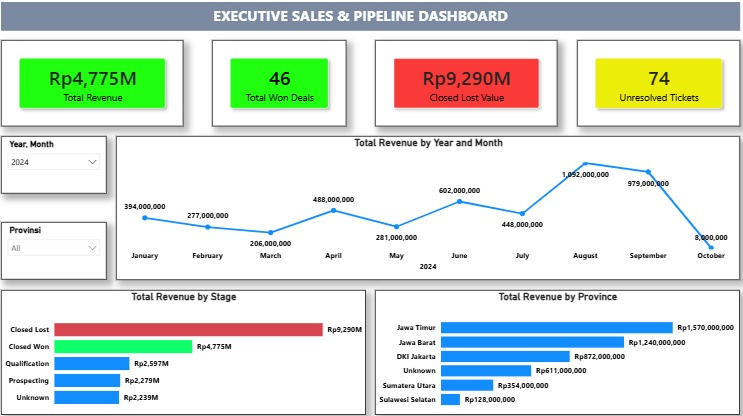

Layout of this report page (visuals, bound fields, positions):
{"tool":"powerbi","page":{"name":"Executive Summary Dashboard","canvas":[1280,720],"ordinal":0},"visuals":[{"type":"slicer","fields":{"Values":["dim_date.Date.Variation.Date Hierarchy.Year","dim_date.Date.Variation.Date Hierarchy.Month"]},"box":[16,240,176,96],"z":0},{"type":"slicer","fields":{"Values":["v_clean_customers.clean_province"]},"box":[16,384,176,96],"z":1000},{"type":"cardVisual","fields":{"Data":["Measure.Total Revenue"]},"box":[16,80,304,144],"z":2000},{"type":"cardVisual","fields":{"Data":["Measure.Total Won Deals"]},"box":[368,80,224,144],"z":3000},{"type":"cardVisual","fields":{"Data":["Measure.Closed Lost Value"]},"box":[640,80,304,144],"z":4000},{"type":"cardVisual","fields":{"Data":["Measure.Unresolved Tickets"]},"box":[976,80,272,144],"z":5000},{"type":"lineChart","fields":{"Y":["Measure.Total Revenue"],"Category":["dim_date.Date.Variation.Date Hierarchy.Year","dim_date.Date.Variation.Date Hierarchy.Month"]},"box":[208,240,1040,240],"z":6000},{"type":"barChart","title":"Total Revenue by Stage","fields":{"Category":["v_clean_deals.clean_stage"],"Y":["Sum(v_clean_deals.clean_deal_value)"]},"box":[16,496,608,208],"z":7000},{"type":"clusteredBarChart","title":"Total Revenue by Province","fields":{"Category":["v_clean_customers.clean_province"],"Y":["Measure.Total Revenue"]},"box":[640,496,608,208],"z":8000},{"type":"shape","box":[16,16,1232,48],"z":9000},{"type":"textbox","box":[320,16,592,48],"z":10000}]}

Visuals, with their boxes in screenshot pixels (x1, y1, x2, y2), scaled from the page's 1280x720 canvas onto the 743x416 screenshot:
slicer - dim_date.Date.Variation.Date Hierarchy.Year x dim_date.Date.Variation.Date Hierarchy.Month: bbox=(9, 139, 111, 194)
slicer - v_clean_customers.clean_province: bbox=(9, 222, 111, 277)
cardVisual - Measure.Total Revenue: bbox=(9, 46, 186, 129)
cardVisual - Measure.Total Won Deals: bbox=(214, 46, 344, 129)
cardVisual - Measure.Closed Lost Value: bbox=(372, 46, 548, 129)
cardVisual - Measure.Unresolved Tickets: bbox=(567, 46, 724, 129)
lineChart - Measure.Total Revenue x dim_date.Date.Variation.Date Hierarchy.Year: bbox=(121, 139, 724, 277)
"Total Revenue by Stage" barChart: bbox=(9, 287, 362, 407)
"Total Revenue by Province" clusteredBarChart: bbox=(372, 287, 724, 407)
shape: bbox=(9, 9, 724, 37)
textbox: bbox=(186, 9, 529, 37)
